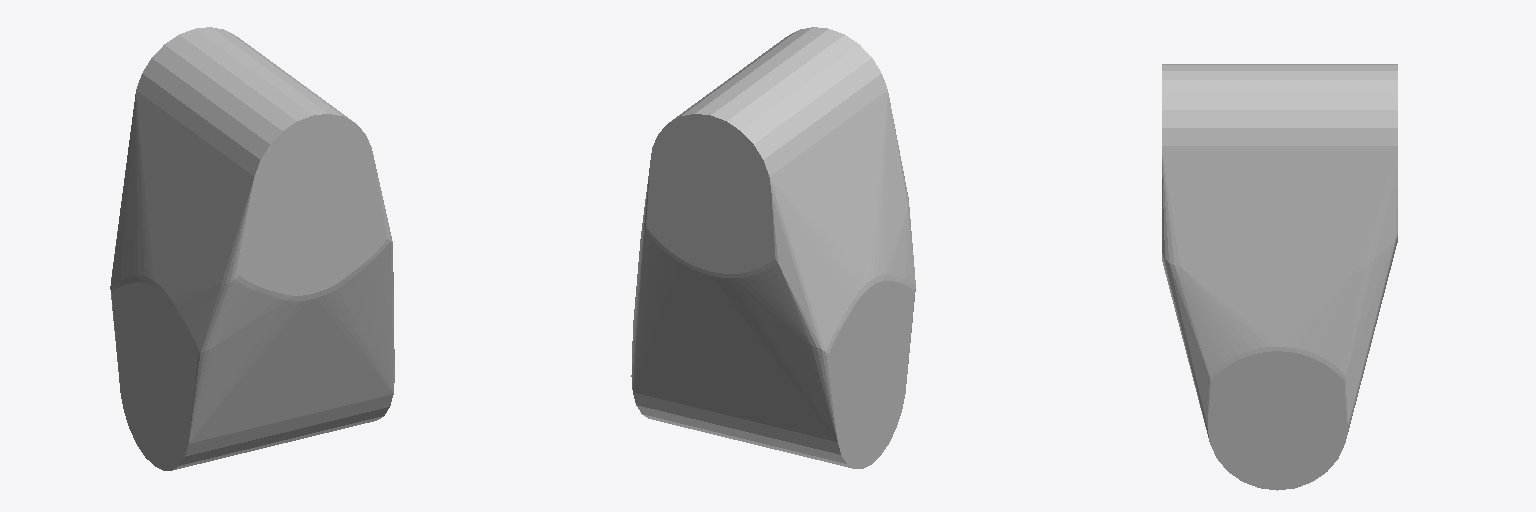
The model's file is right femur.obj.
The picture shows the model from 3 angles: view 1: azimuth 30°, elevation 25°; view 2: azimuth 150°, elevation 25°; view 3: azimuth 270°, elevation 25°; orthographic projection.
Visible parts, largest first — view 1: obj1; view 2: obj1; view 3: obj1.
Boxes of the visible parts, <box> form: obj1: <box>110,27,394,470</box>; obj1: <box>631,27,915,468</box>; obj1: <box>1162,64,1397,490</box>.
Bounding box in the file's own units: 0.1013 × 0.174 × 0.1013.